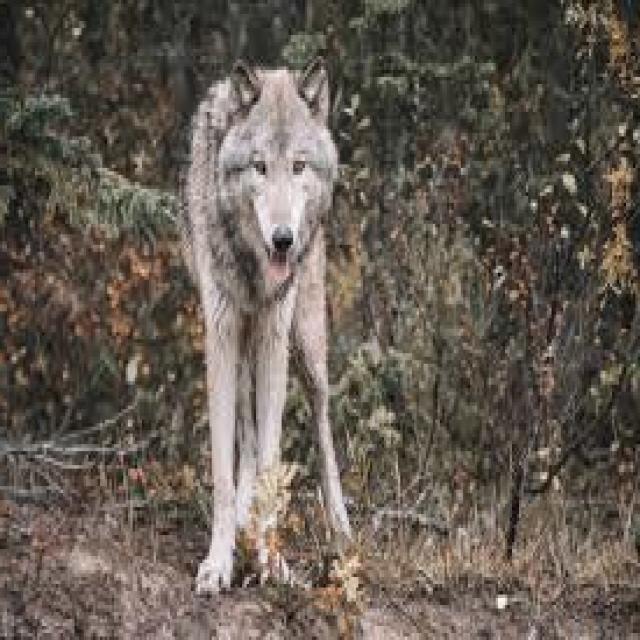wolf: (184, 59, 351, 591), (277, 553, 289, 577)
